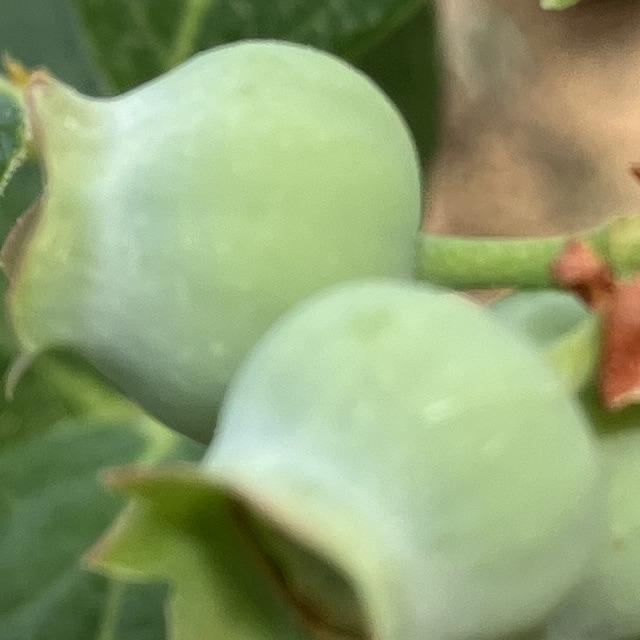Blueberries: (89, 274, 618, 640), (0, 22, 456, 436)
